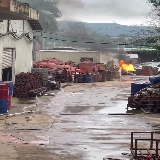fire: (119, 60, 136, 71)
